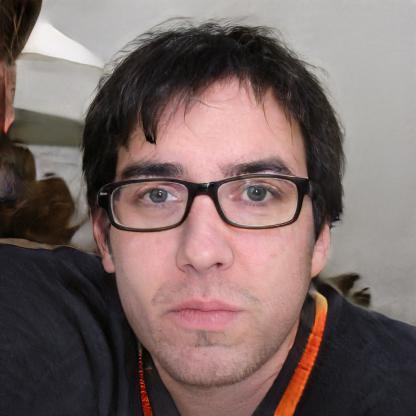glasses: (98, 174, 315, 236)
